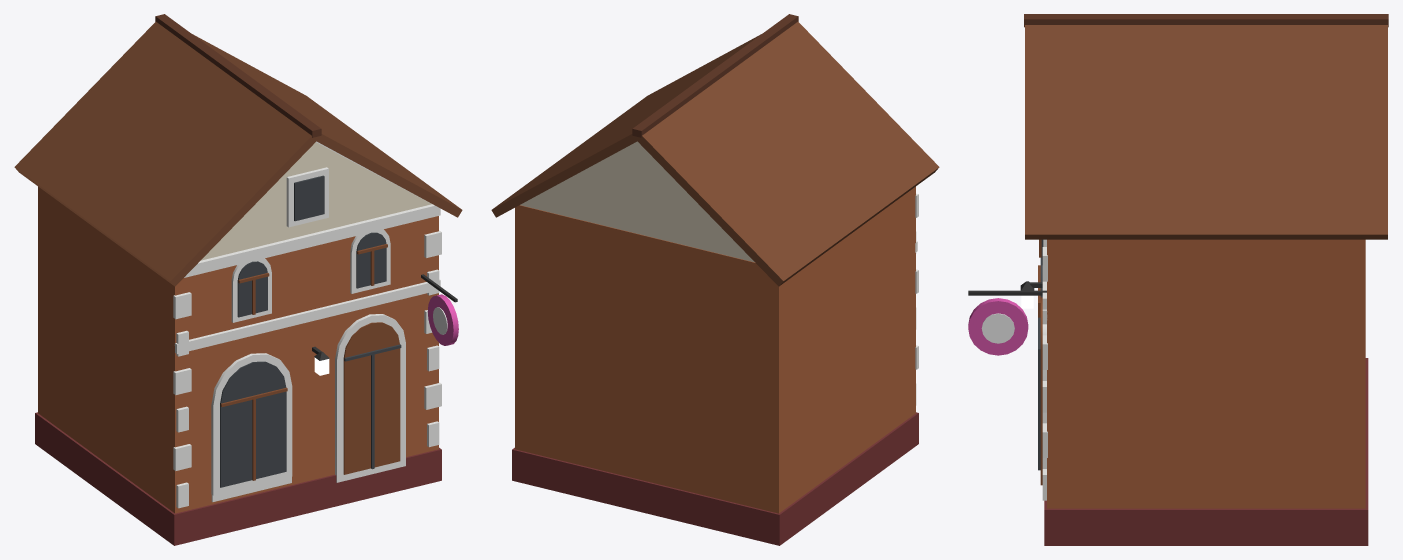
3 renders of one model, left to right at view 1: azimuth 30°, elevation 25°; view 2: azimuth 150°, elevation 25°; view 3: azimuth 270°, elevation 25°, orthographic. The views are drawn at different scales.
Parts seen in each view (by area): view 1: base; view 2: base; view 3: base.
Boxes of the visible parts, x1,y1,x2,y2 form: base: (14,14,462,545); base: (491,14,939,545); base: (968,14,1388,545).
Bounding box in the file's own units: 4.43 × 5.65 × 4.75.
